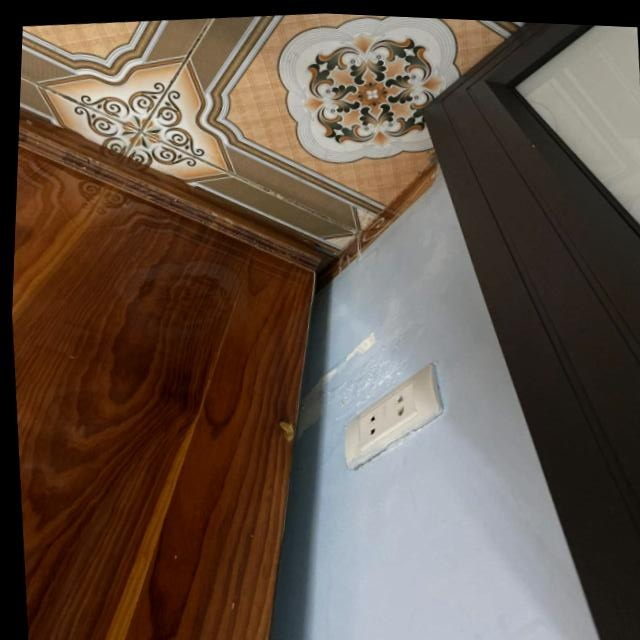outlet: (335, 360, 449, 476)
